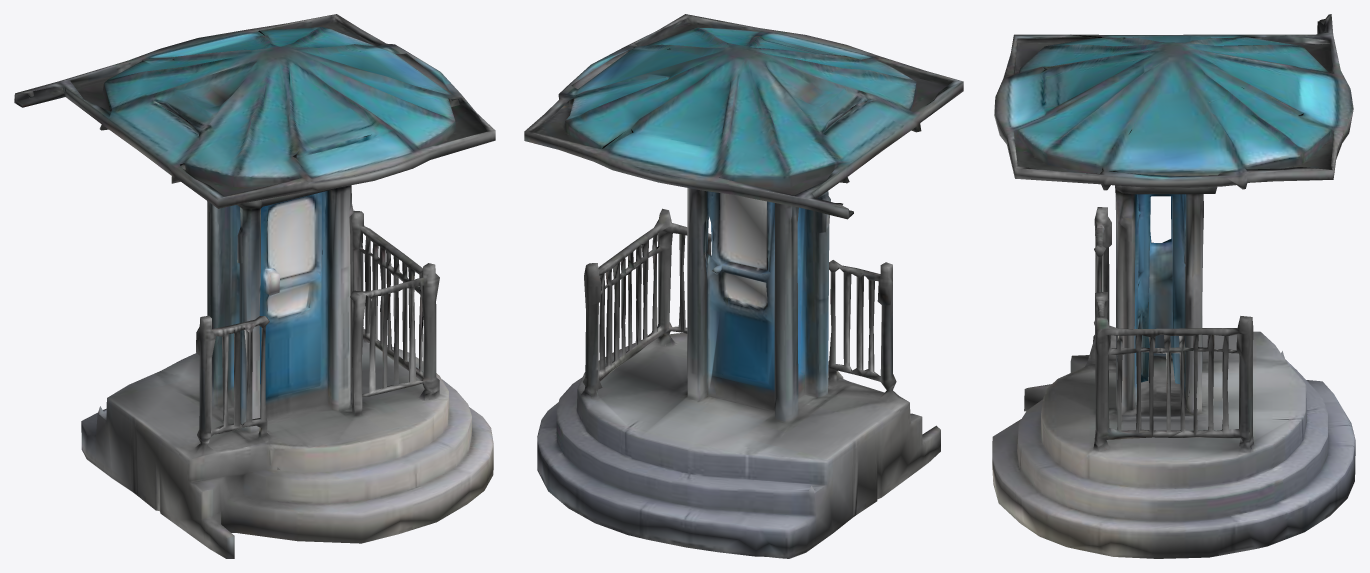
The model's file is subway_entrance.glb.
3 renders of one model, left to right at view 1: azimuth 30°, elevation 25°; view 2: azimuth 150°, elevation 25°; view 3: azimuth 270°, elevation 25°, orthographic.
Visible parts, largest first — view 1: subway_entrance; view 2: subway_entrance; view 3: subway_entrance.
Boxes of the visible parts, bbox=[...] form: subway_entrance: bbox=[14, 14, 495, 558]; subway_entrance: bbox=[524, 14, 963, 558]; subway_entrance: bbox=[992, 14, 1355, 558].
Size of the model in its own units: 2.93 by 3.2 by 2.51.
Materials: 1 (1 with a texture image).
